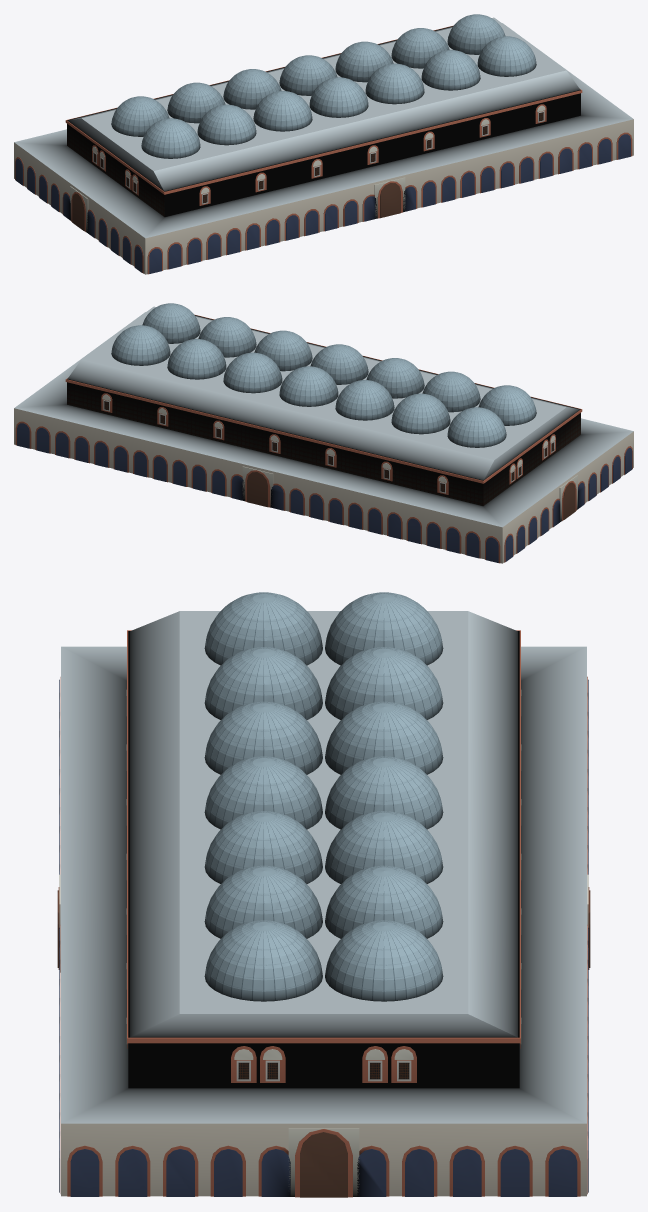
Rendered from bedesten_v02_almasik.glb.
3 renders of one model, top to bottom at view 1: azimuth 30°, elevation 25°; view 2: azimuth 150°, elevation 25°; view 3: azimuth 270°, elevation 25°, orthographic. The views are drawn at different scales.
Visible parts, largest first — view 1: Kubbeler, Dukkanlar, Cati, Dukkan_Kapilari, Govde, Sacak, Pencereler, Kapilar; view 2: Kubbeler, Dukkanlar, Cati, Dukkan_Kapilari, Govde, Sacak, Pencereler, Kapilar; view 3: Dukkanlar, Kubbeler, Cati, Dukkan_Kapilari, Govde, Kapilar, Sacak, Pencereler.
Part boxes in pixels (bbox=[...]): Kubbeler: bbox=[111, 14, 536, 158]; Dukkanlar: bbox=[14, 23, 633, 274]; Cati: bbox=[67, 17, 580, 191]; Dukkan_Kapilari: bbox=[15, 132, 632, 274]; Govde: bbox=[67, 26, 580, 216]; Sacak: bbox=[65, 25, 582, 194]; Pencereler: bbox=[92, 104, 546, 205]; Kapilar: bbox=[70, 177, 405, 232]; Kubbeler: bbox=[111, 303, 536, 447]; Dukkanlar: bbox=[14, 312, 633, 563]; Cati: bbox=[67, 306, 579, 480]; Dukkan_Kapilari: bbox=[15, 421, 632, 563]; Govde: bbox=[67, 315, 580, 505]; Sacak: bbox=[65, 314, 582, 483]; Pencereler: bbox=[101, 393, 555, 494]; Kapilar: bbox=[242, 466, 577, 521]; Dukkanlar: bbox=[61, 646, 586, 1196]; Kubbeler: bbox=[204, 592, 443, 1001]; Cati: bbox=[130, 611, 517, 1037]; Dukkan_Kapilari: bbox=[59, 676, 588, 1196]; Govde: bbox=[128, 631, 519, 1088]; Kapilar: bbox=[57, 874, 590, 1197]; Sacak: bbox=[127, 630, 520, 1043]; Pencereler: bbox=[126, 690, 521, 1082].
Size of the model in its own units: 70.84 by 13.5 by 33.24.
Materials: 9 (3 with a texture image).
